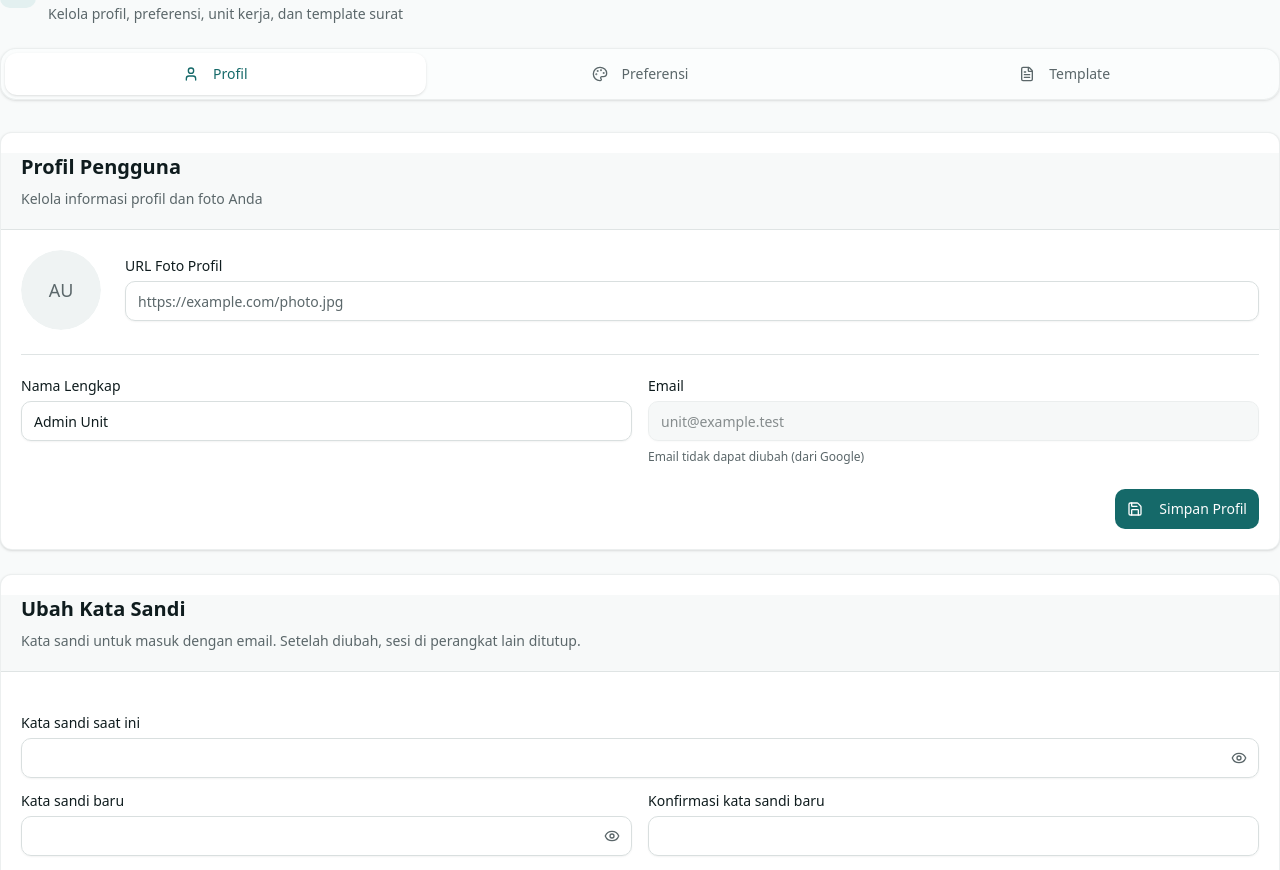
Test: Pengaturan — Ubah Kata Sandi › memeriksa isian sebelum mengirim ({"saatIni":""})
Type "sintetis-baru-01" into the password field labelled "Kata sandi baru" at coordinates (326, 836), box [21, 816, 632, 856]
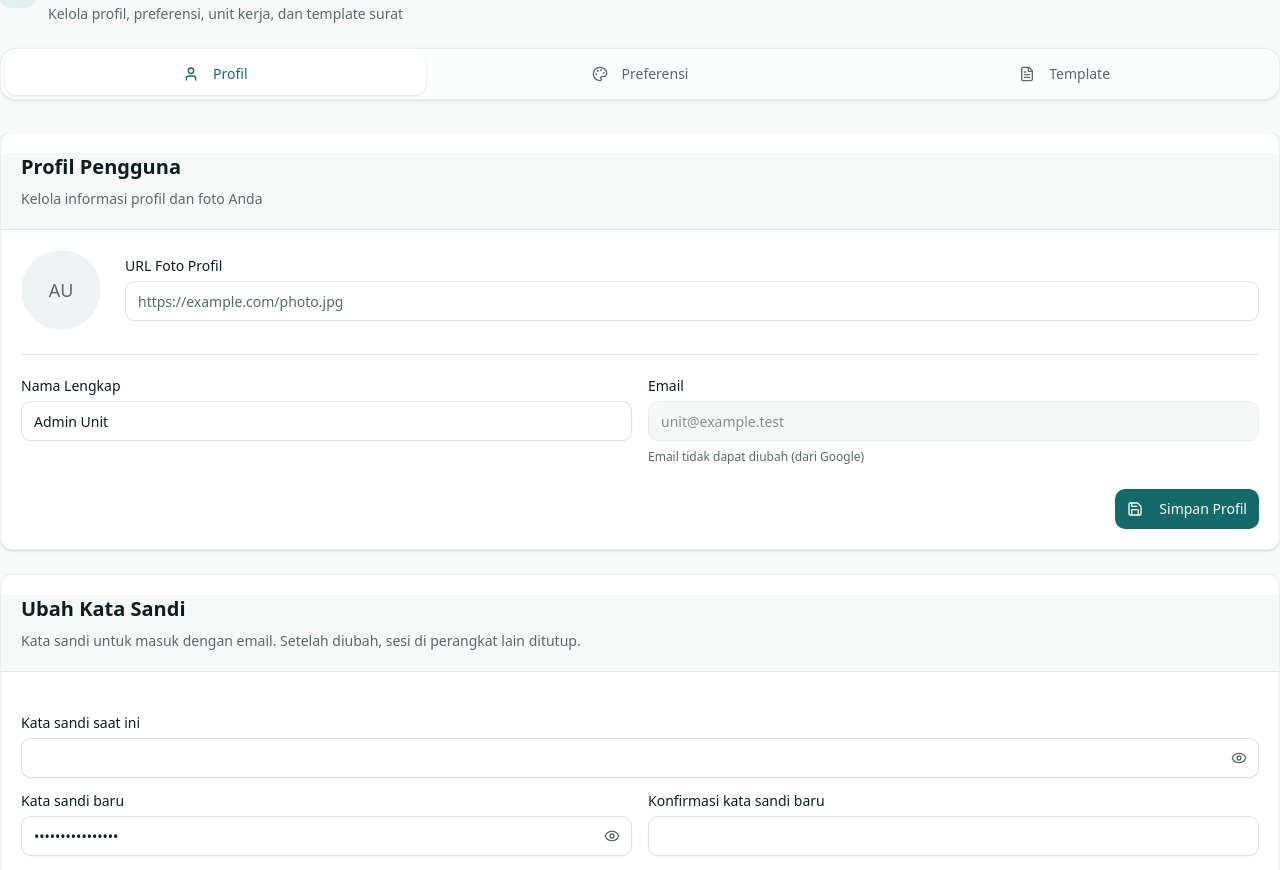
Type "sintetis-baru-01" into the password field labelled "Konfirmasi kata sandi baru" at coordinates (954, 836), box [648, 816, 1259, 856]
(page scrolled)
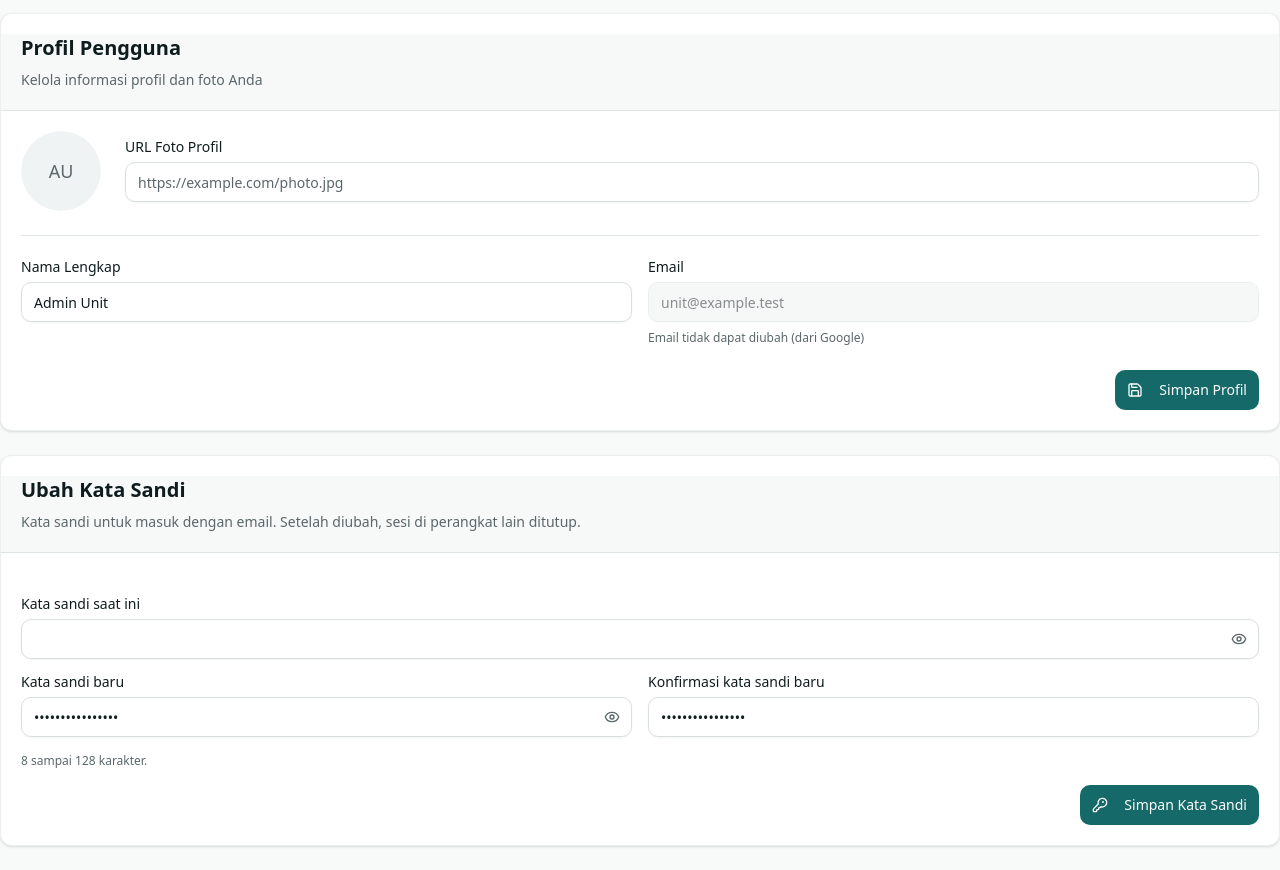
Click the button "Simpan Kata Sandi" at coordinates (1170, 805), box [1080, 785, 1259, 825]
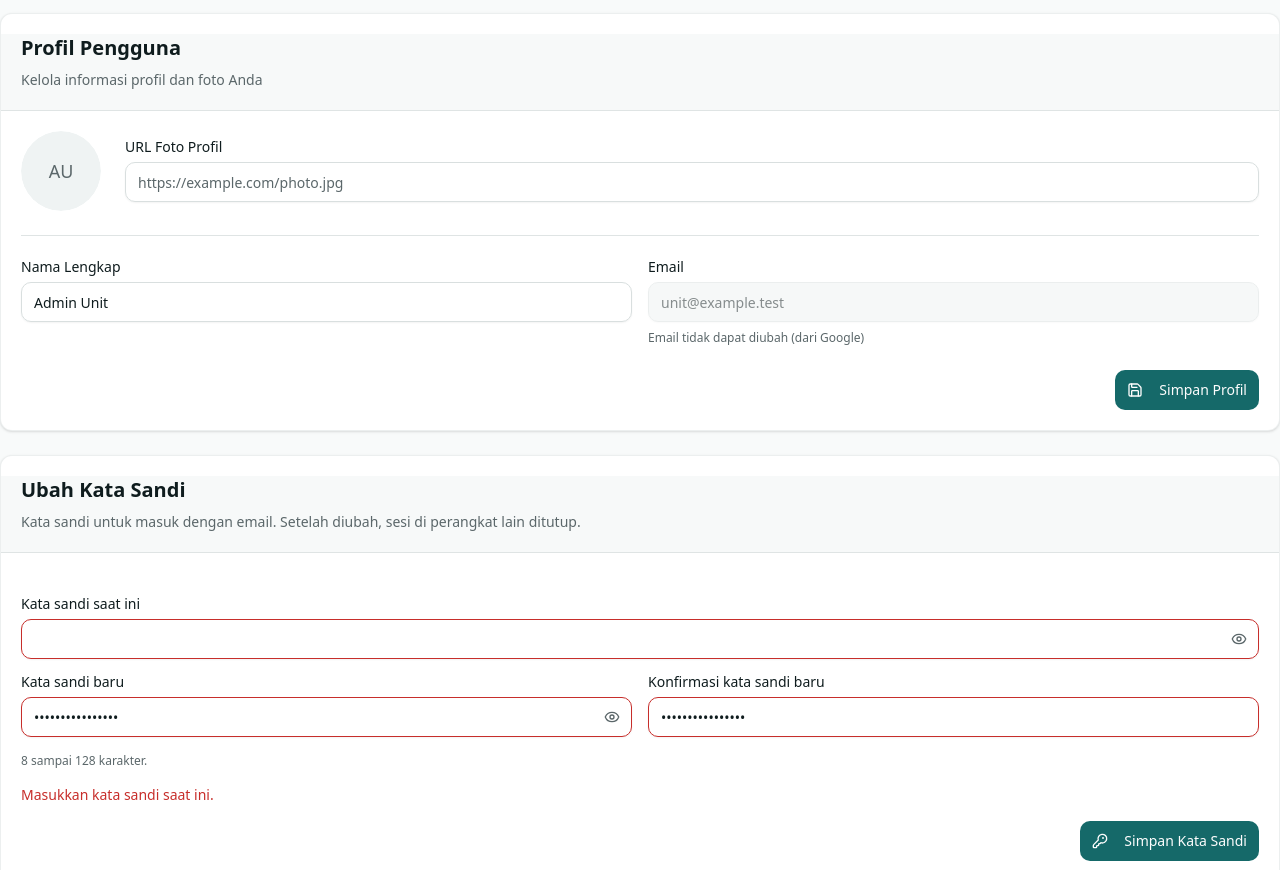
Check: the message reads "Masukkan kata sandi saat ini.", box [21, 785, 214, 804]
